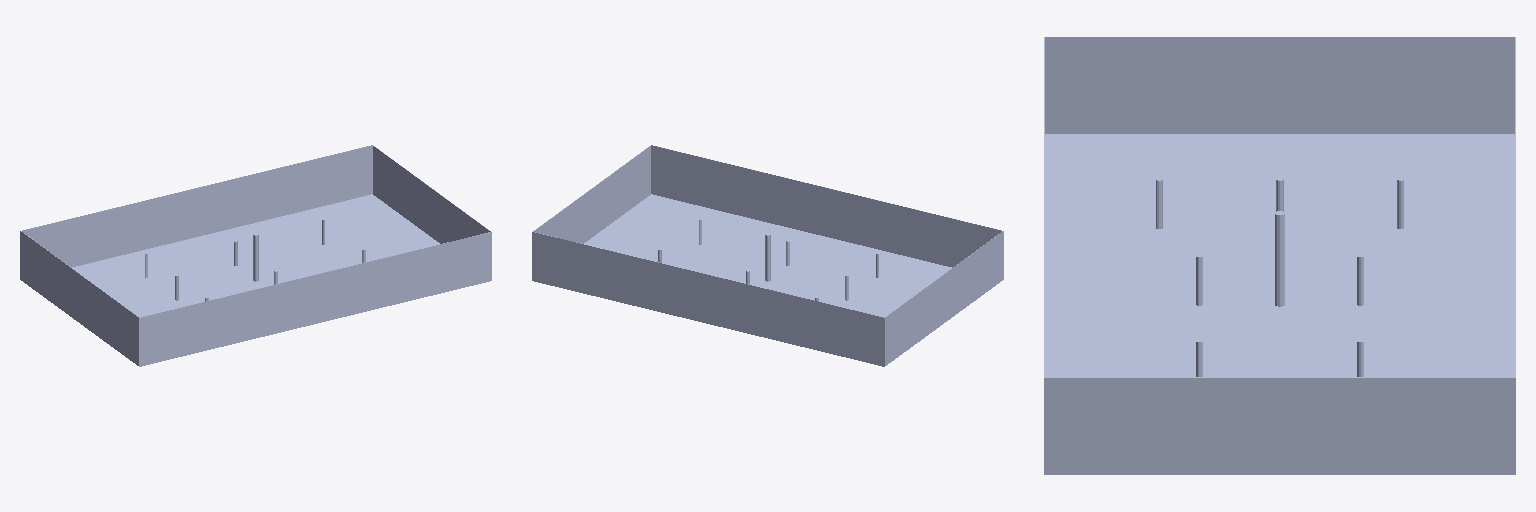
robot.urdf — map:
<?xml version="1.0" encoding="utf-8"?>
<!-- This URDF was automatically created by SolidWorks to URDF Exporter! Originally created by [author] ([email redacted]) 
     Commit Version: 1.6.0-4-g7f85cfe  Build Version: 1.6.7995.38578
     For more information, please see http://wiki.ros.org/sw_urdf_exporter -->
<robot
  name="map">
  <link
    name="base_link-1">
    <inertial>
      <origin
        xyz="-0.0104212713103912 3.81461127802395E-15 0.353742008219042"
        rpy="0 0 0" />
      <mass
        value="1532.01786902623" />
      <inertia
        ixx="9325.26337353336"
        ixy="-9.64163065896176E-11"
        ixz="5.69968133118138"
        iyy="23253.5926584994"
        iyz="2.06200535885932E-12"
        izz="32254.5830391406" />
    </inertial>
    <visual>
      <origin
        xyz="0 0 0"
        rpy="0 0 0" />
      <geometry>
        <mesh
          filename="package://map/meshes/base_link-1.STL" />
      </geometry>
      <material
        name="">
        <color
          rgba="0.792156862745098 0.819607843137255 0.933333333333333 1" />
      </material>
    </visual>
    <collision>
      <origin
        xyz="0 0 0"
        rpy="0 0 0" />
      <geometry>
        <mesh
          filename="package://map/meshes/base_link-1.STL" />
      </geometry>
    </collision>
  </link>
</robot>

--- Facts derived from the render (not from the file) ---
3 views of the same robot in one strip: view 1: azimuth 30°, elevation 25°; view 2: azimuth 150°, elevation 25°; view 3: azimuth 270°, elevation 25° (orthographic).
Robot: map — 1 links, 0 joints (none); root link base_link-1; default pose: all joints at 0.
Links seen in each view (by area): view 1: base_link-1; view 2: base_link-1; view 3: base_link-1.
Link boxes in pixels (x1=…): base_link-1: x1=20, y1=145, x2=491, y2=366; base_link-1: x1=532, y1=145, x2=1003, y2=366; base_link-1: x1=1044, y1=37, x2=1515, y2=474.
Size in the robot's own frame: 12.02 by 7.02 by 1.61 metres.
1 mesh visuals loaded from 1 distinct referenced files (1 binary STL).